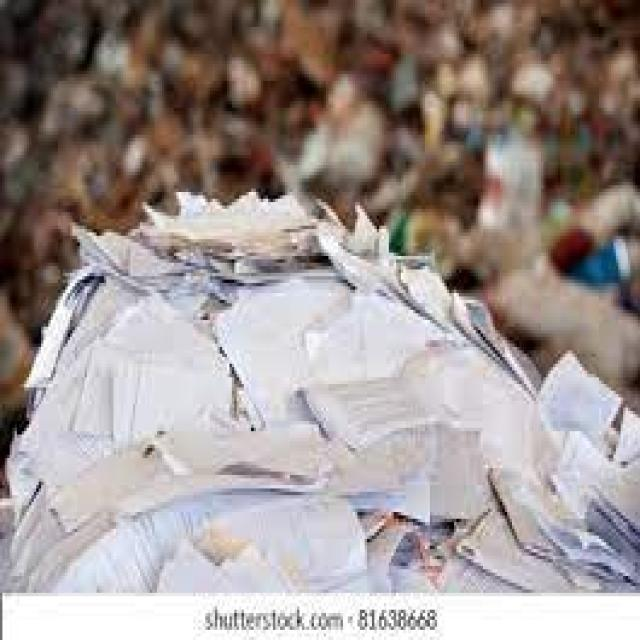PaperCardboard: (0, 196, 640, 593)
